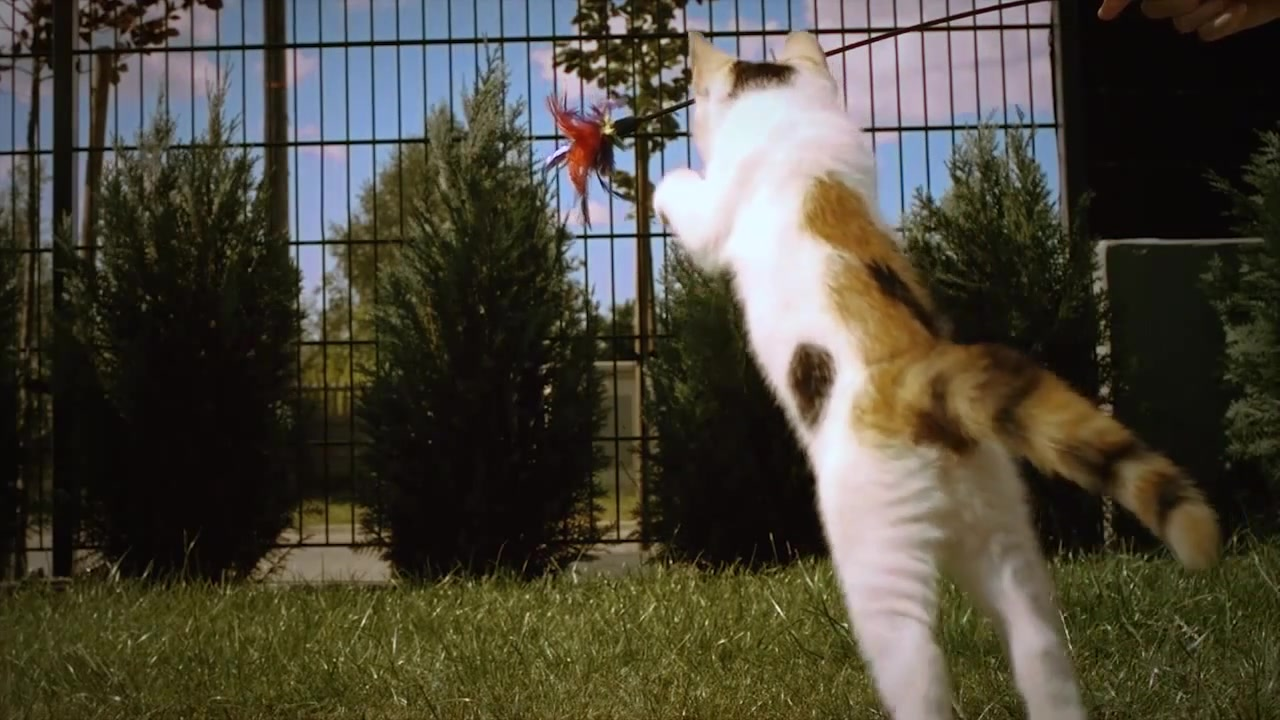cat: (637, 30, 1226, 720)
